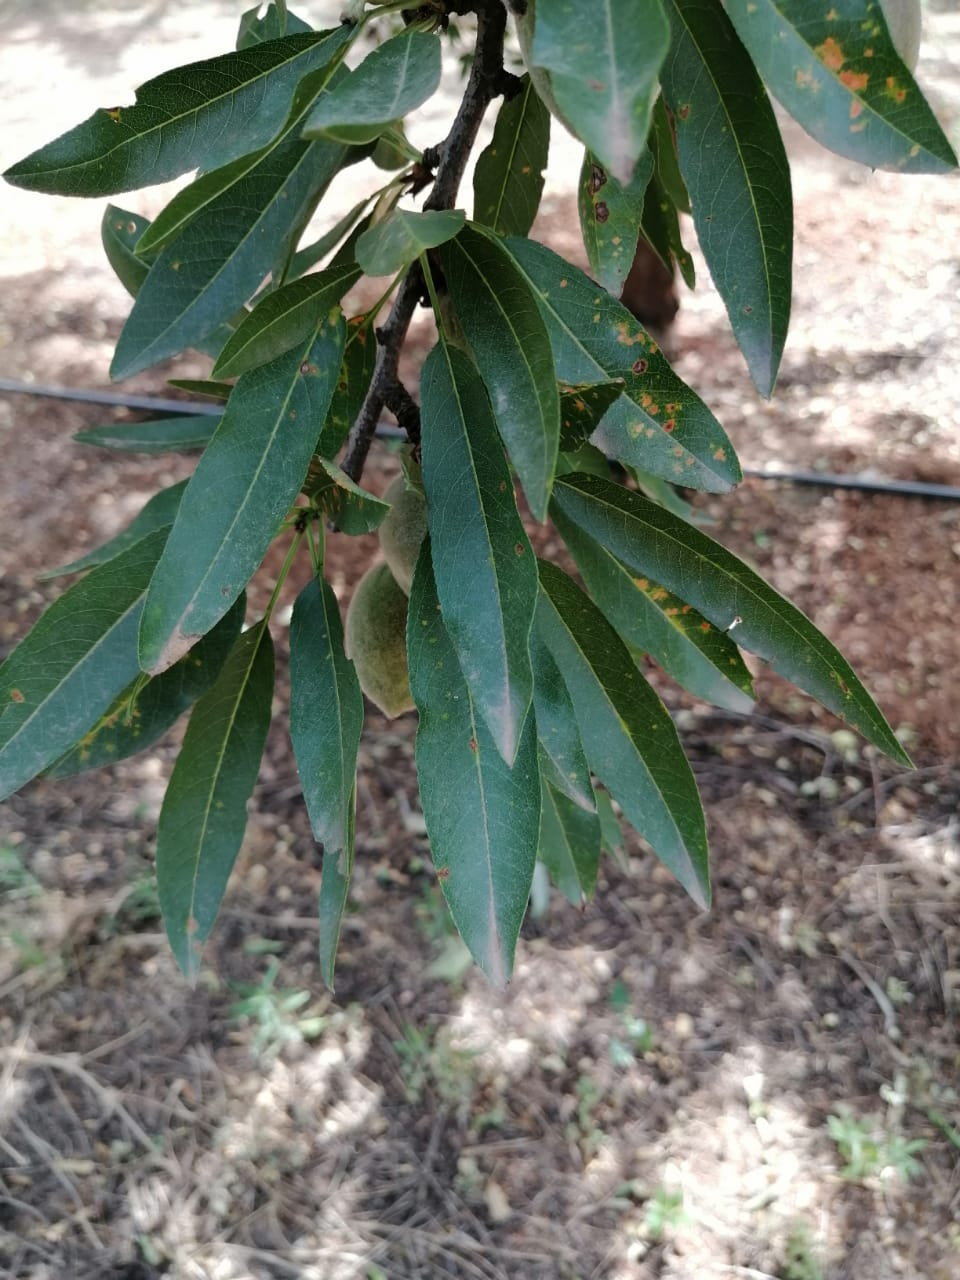polystigma: (551, 471, 922, 773), (132, 306, 346, 676), (475, 229, 744, 495), (403, 527, 542, 996), (545, 499, 761, 719), (156, 619, 278, 987)
